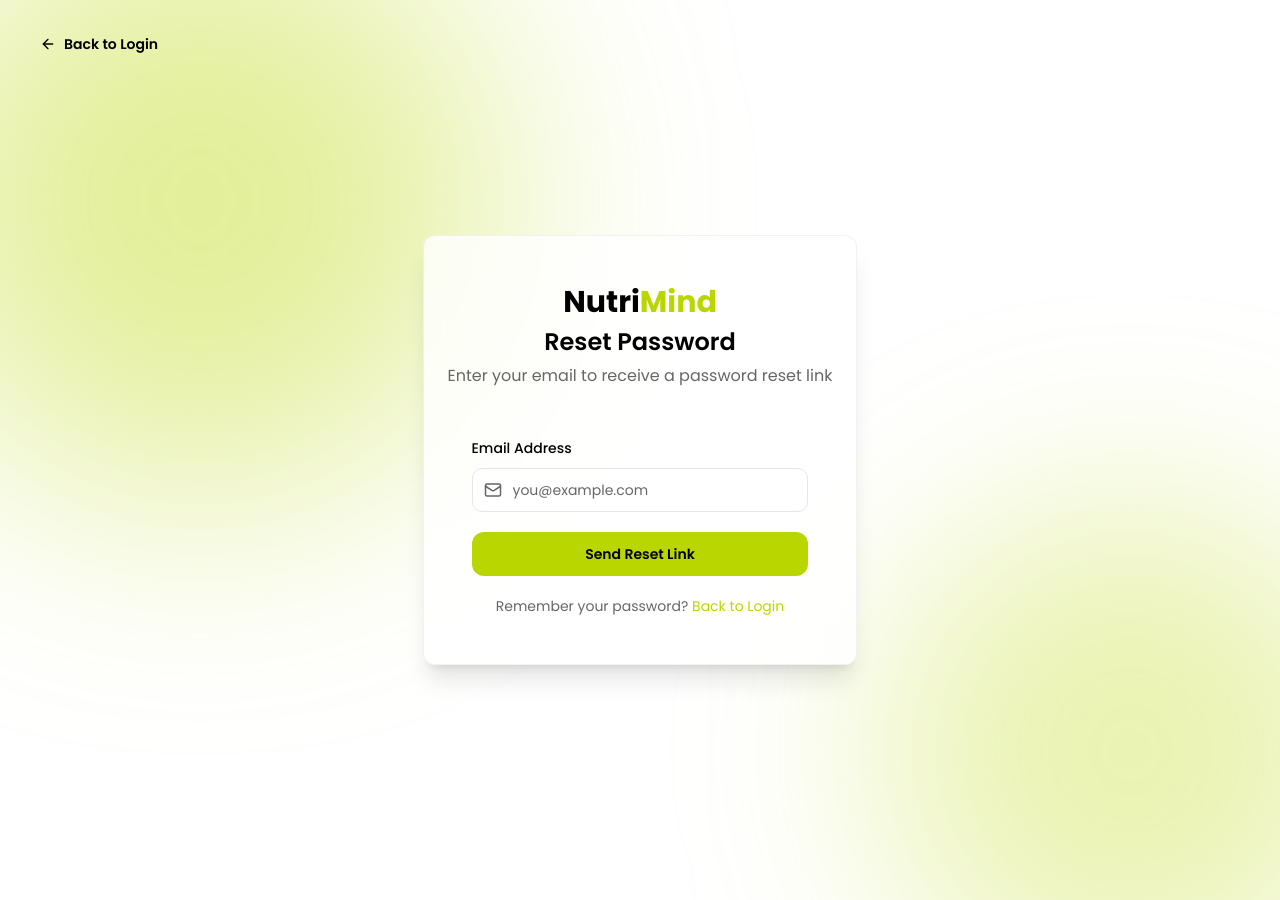
ResetPassword Component › should display success message after sending reset email
Type "adib@example.com" into the field with placeholder "you@example.com" at (640, 490), box [472,468,808,512]
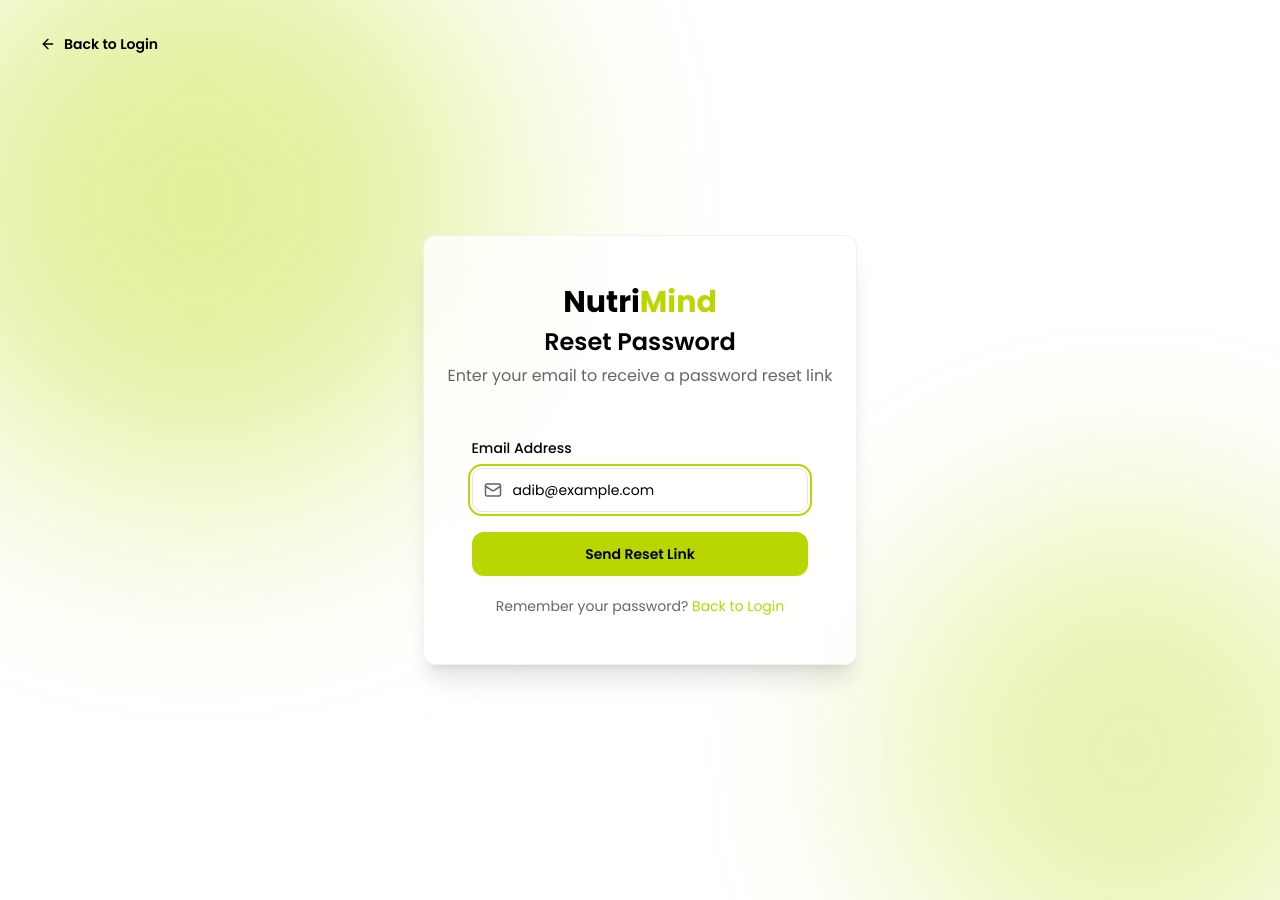
Click the button "Send Reset Link" at (640, 554), box [472,532,808,576]
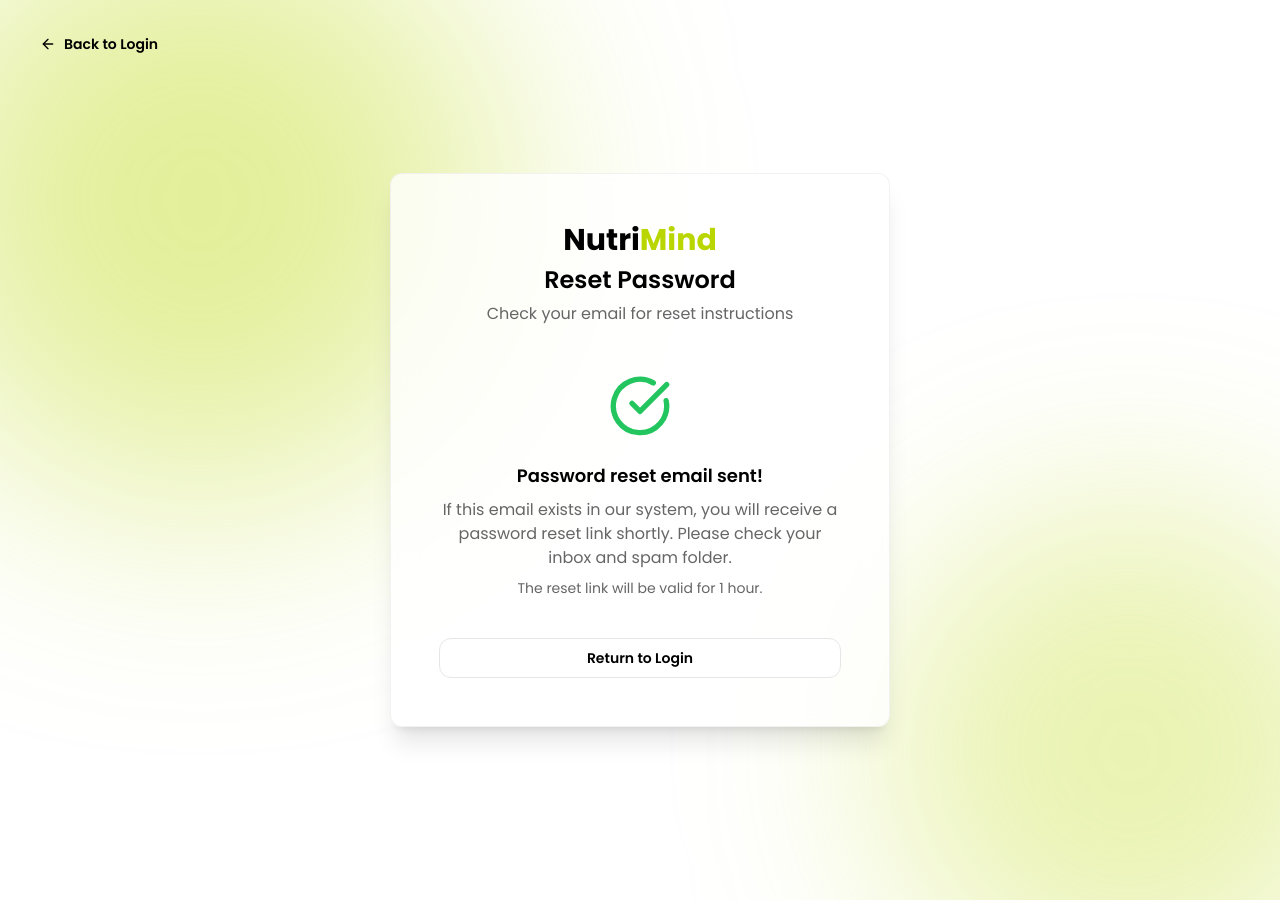
Check: the heading "Password reset email sent!" is shown, box [517,463,763,488]
Check: the text "If this email exists in our system" is shown, box [443,498,837,569]
Check: the text "The reset link will be valid for 1 hour." is shown, box [517,578,762,598]
